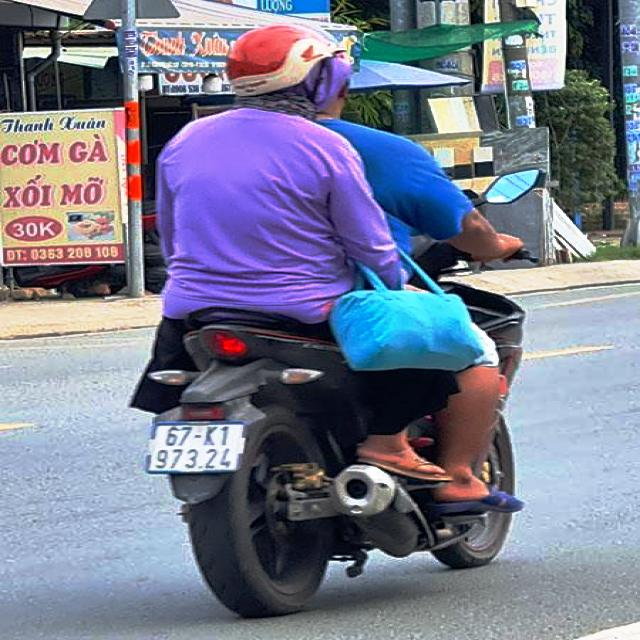license_plate: (150, 424, 241, 474)
